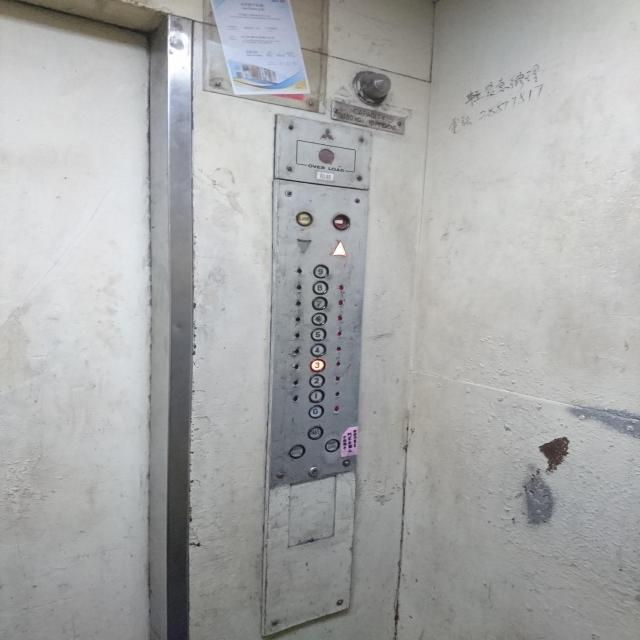1: (308, 388, 325, 404)
2: (308, 373, 326, 388)
3: (309, 358, 326, 372)
4: (309, 342, 327, 358)
5: (310, 326, 327, 342)
6: (310, 311, 328, 326)
7: (311, 295, 328, 310)
8: (311, 280, 329, 295)
9: (312, 263, 330, 279)
G: (307, 404, 325, 418)
text: (295, 210, 313, 227), (306, 425, 324, 440), (288, 444, 306, 459), (323, 438, 341, 453)
unknown: (332, 212, 350, 231)
